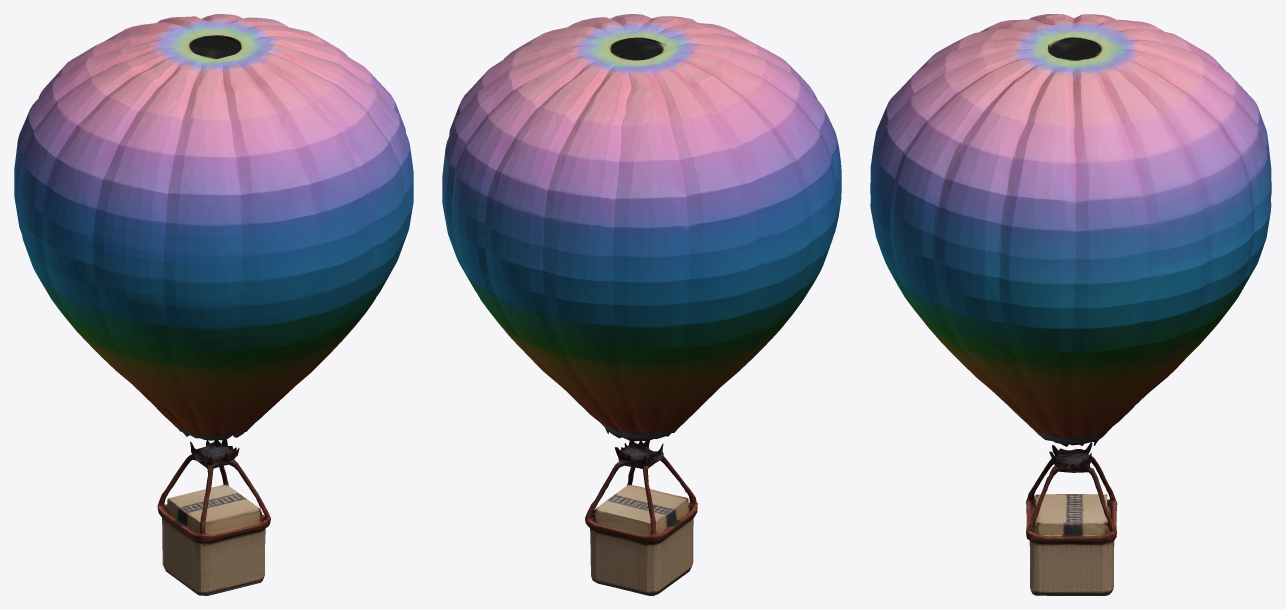
Rendered from nano3d.glb.
The picture shows the model from 3 angles, left to right: view 1: azimuth 30°, elevation 25°; view 2: azimuth 150°, elevation 25°; view 3: azimuth 270°, elevation 25°; orthographic projection.
Parts seen in each view (by area): view 1: world; view 2: world; view 3: world.
Boxes of the visible parts, <box> form: world: <box>14,14,413,595</box>; world: <box>442,14,841,595</box>; world: <box>870,14,1271,595</box>.
Size of the model in its own units: 0.6814 by 0.9994 by 0.6802.
Materials: 1 (1 with a texture image).
